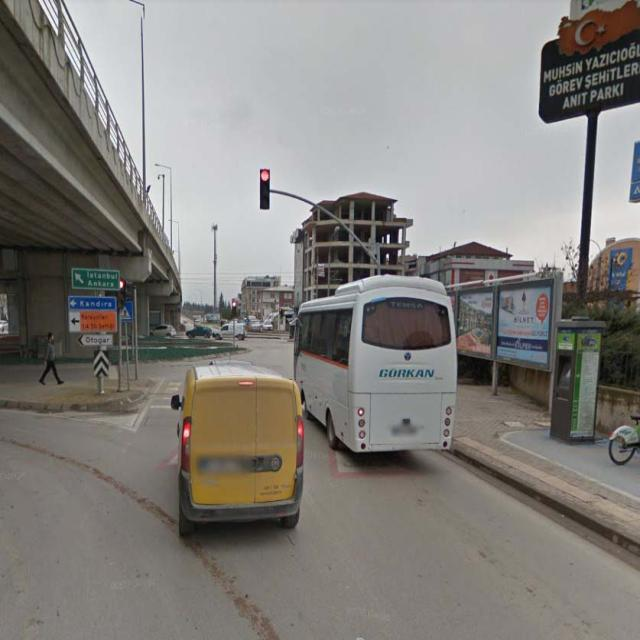kirmizi: (260, 168, 270, 208)
